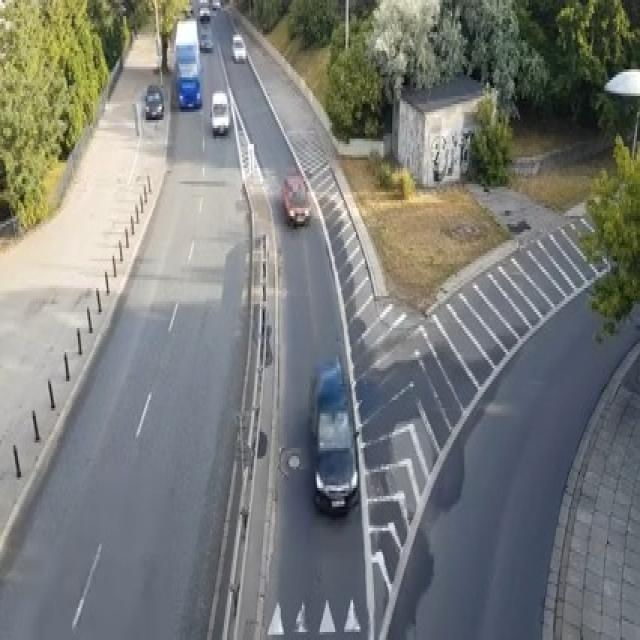car: (308, 357, 358, 515), (281, 171, 311, 224), (174, 62, 202, 110), (210, 91, 228, 133), (144, 83, 164, 120), (232, 32, 246, 61), (198, 29, 214, 51), (198, 0, 210, 21), (212, 0, 221, 8)
